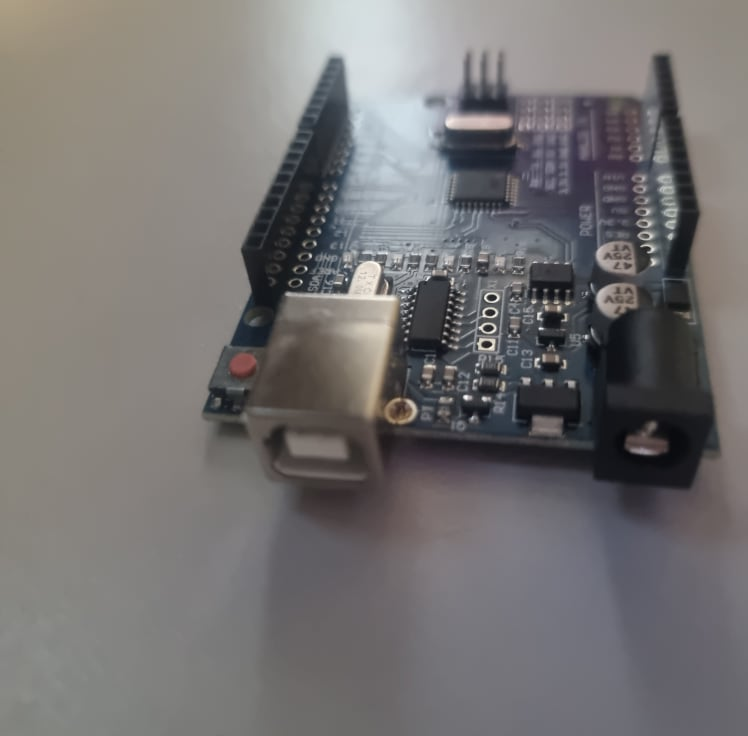UNO R3: (199, 52, 727, 503)
